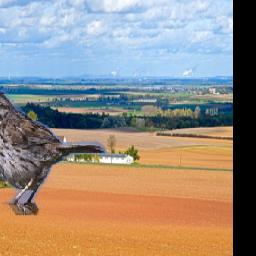Sparrow: (0, 86, 107, 216)
